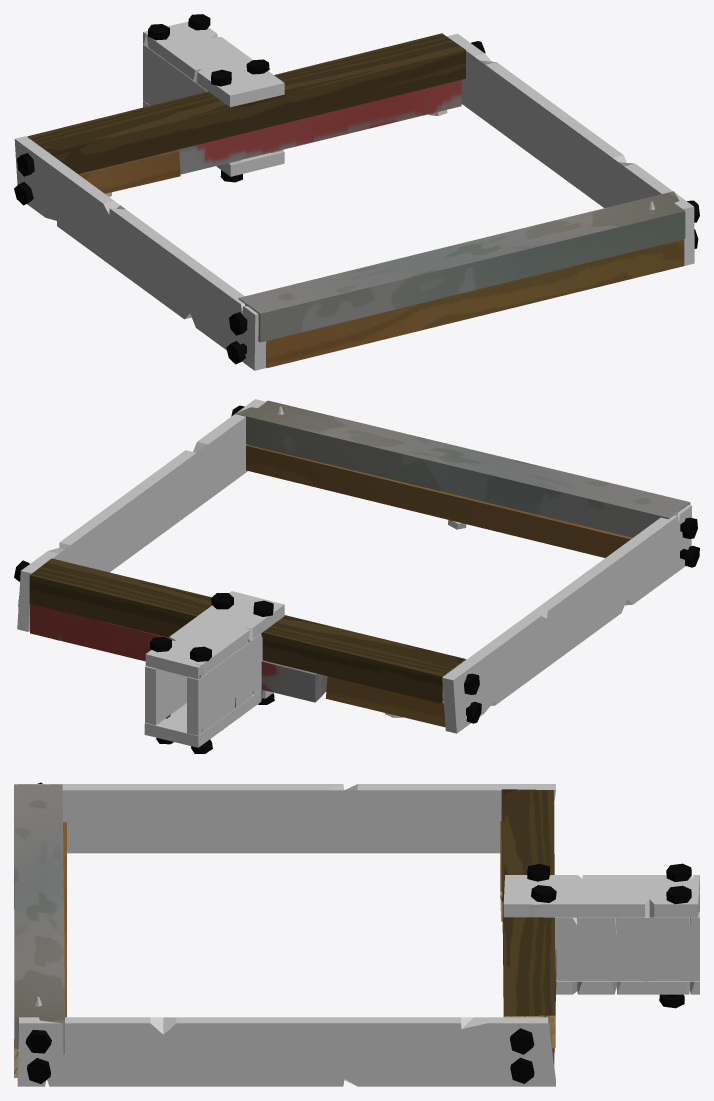
File: SailSupport.fbx
3 renders of one model, top to bottom at view 1: azimuth 30°, elevation 25°; view 2: azimuth 150°, elevation 25°; view 3: azimuth 270°, elevation 25°, orthographic. The views are drawn at different scales.
Visible parts, largest first — view 1: obj_containers_crate.001; view 2: obj_containers_crate.001; view 3: obj_containers_crate.001.
Part boxes in pixels (left/top/right/bottom): obj_containers_crate.001: left=14, top=14, right=699, bottom=370; obj_containers_crate.001: left=14, top=399, right=699, bottom=753; obj_containers_crate.001: left=14, top=782, right=699, bottom=1086.
Size of the model in its own units: 5.28 by 1.11 by 6.
